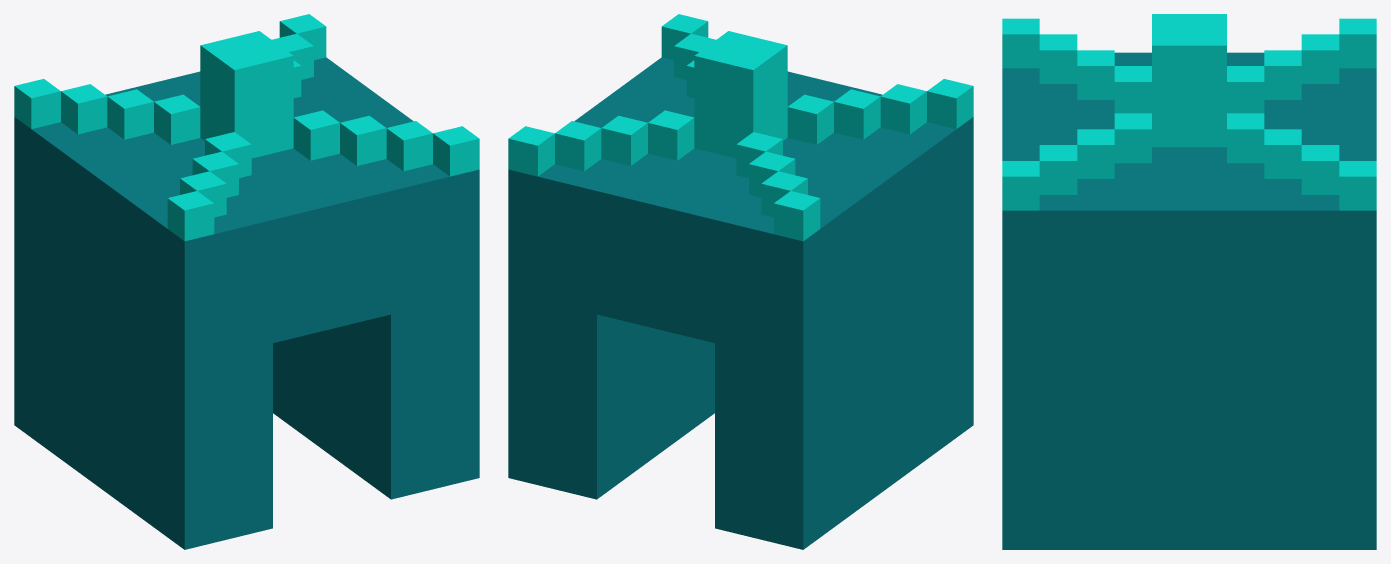
The model's file is Gri.fbx.
3 renders of one model, left to right at view 1: azimuth 30°, elevation 25°; view 2: azimuth 150°, elevation 25°; view 3: azimuth 270°, elevation 25°, orthographic. The views are drawn at different scales.
Visible parts, largest first — view 1: Gri; view 2: Gri; view 3: Gri.
Part boxes in pixels (x1,y1,x2,y2): Gri: (14, 14, 479, 549); Gri: (508, 14, 973, 549); Gri: (1002, 14, 1376, 549).
Bounding box in the file's own units: 10 × 13 × 10.
1 material, 1 textured.
